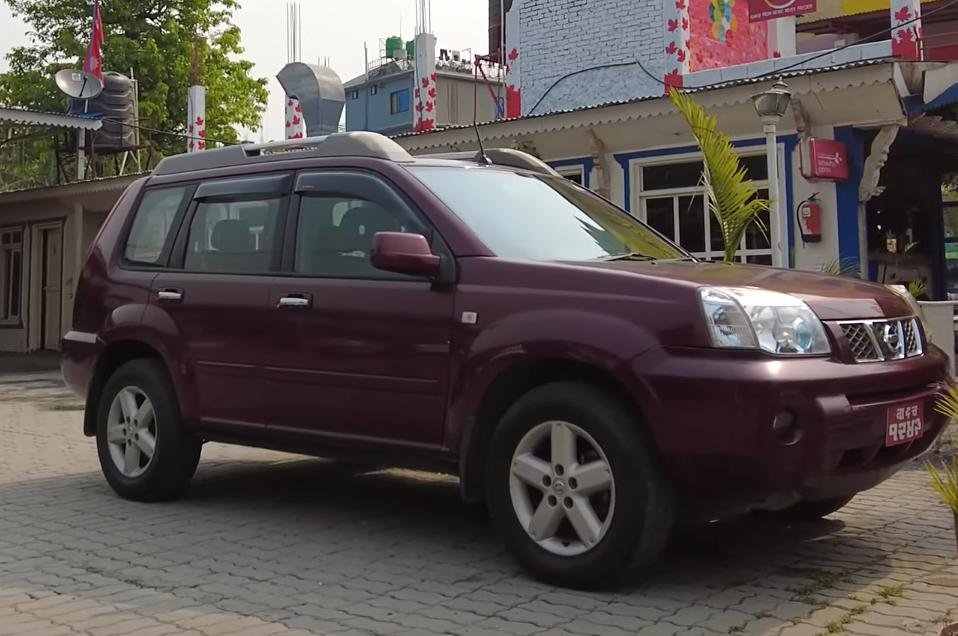SUV: (53, 120, 955, 594)
